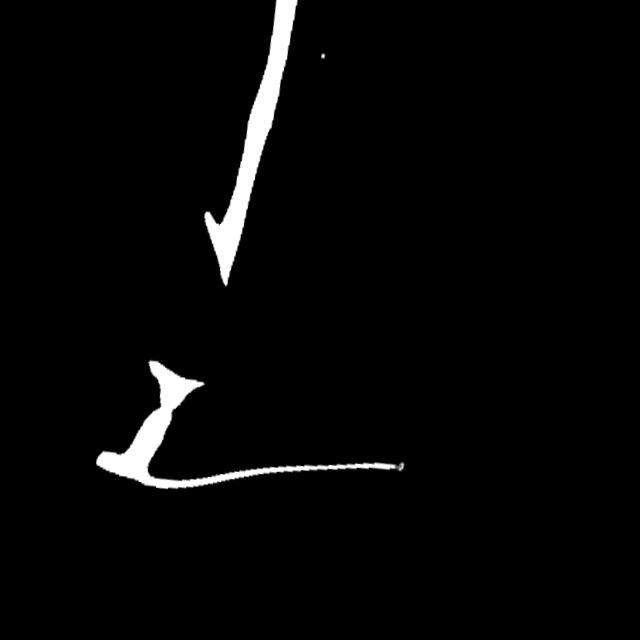stp: (361, 446, 428, 499)
